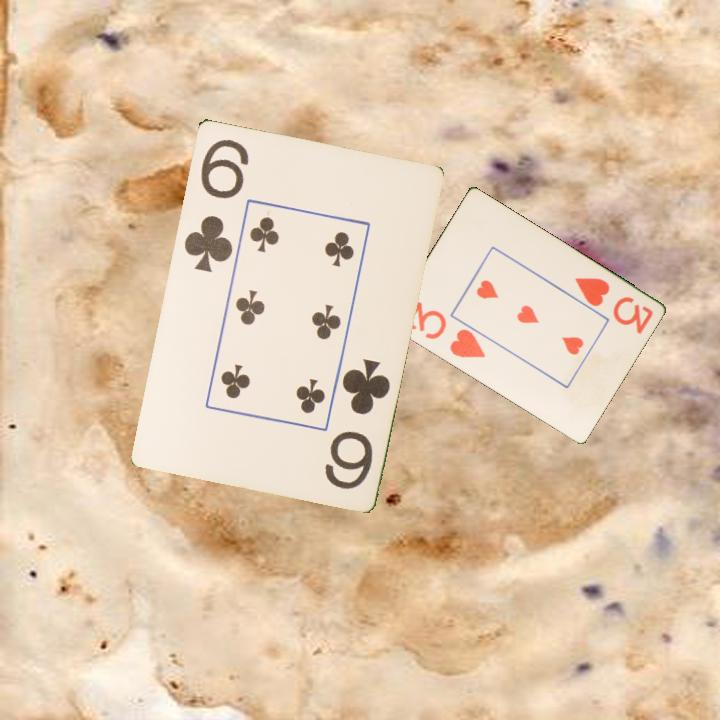3h: (401, 298, 488, 361), (571, 274, 656, 337)
6c: (180, 135, 252, 275), (321, 355, 393, 492)
